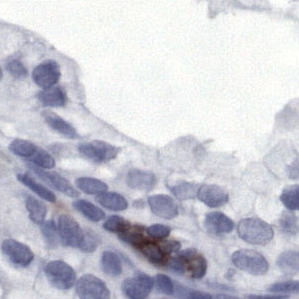Lymphocyte: (127, 224, 179, 263)
